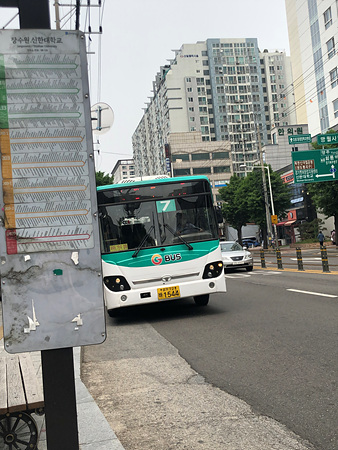bnum: (157, 199, 174, 211)
